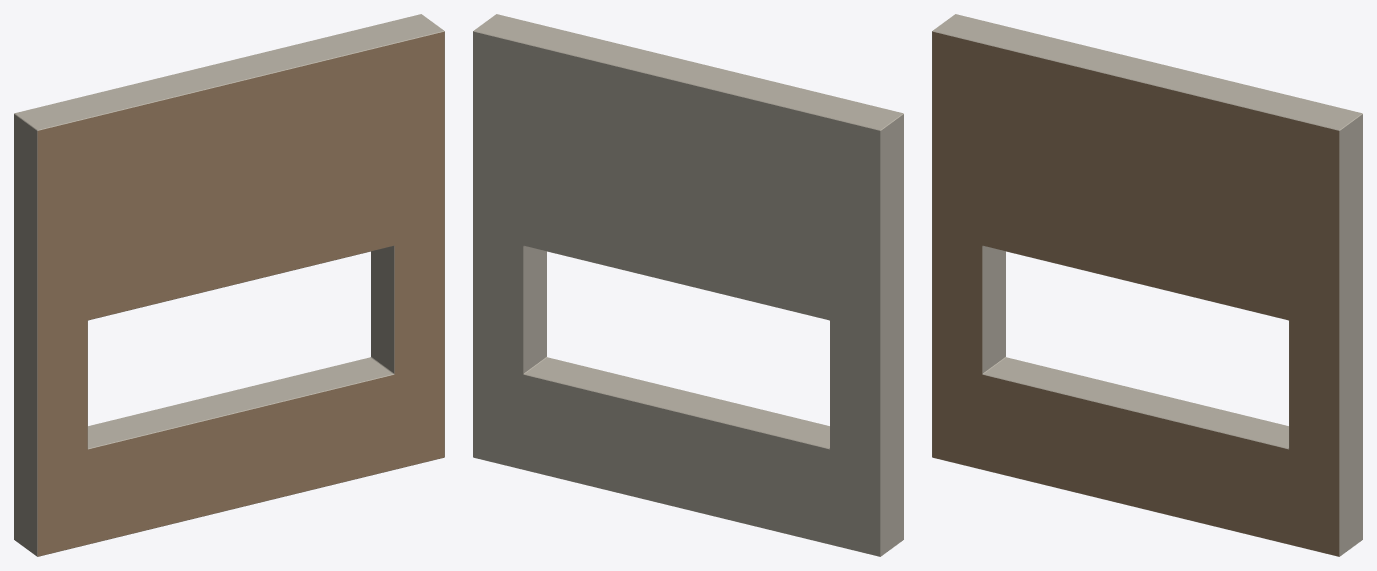
The model's file is arch_wall_ext_window_wide_w400_h400.glb.
3 views of the same model, side by side, from view 1: azimuth 30°, elevation 25°; view 2: azimuth 150°, elevation 25°; view 3: azimuth 330°, elevation 25° (orthographic).
Visible parts, largest first — view 1: Wall; view 2: Wall; view 3: Wall.
Boxes of the visible parts, x1=… form: Wall: x1=14, y1=14, x2=444, y2=556; Wall: x1=473, y1=14, x2=903, y2=556; Wall: x1=932, y1=14, x2=1362, y2=556.
Size of what is drawn, in the model's own units: 4 by 4 by 0.4.
